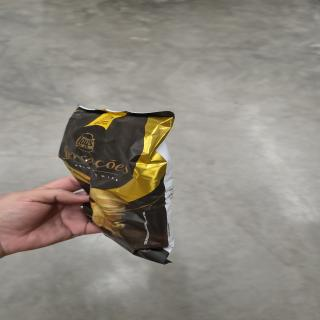food-box: (102, 108, 192, 275)
